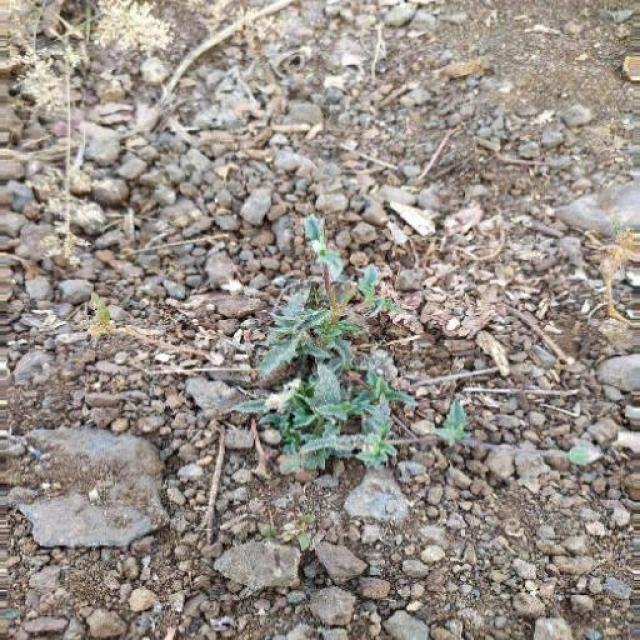weed: (220, 230, 489, 490)
